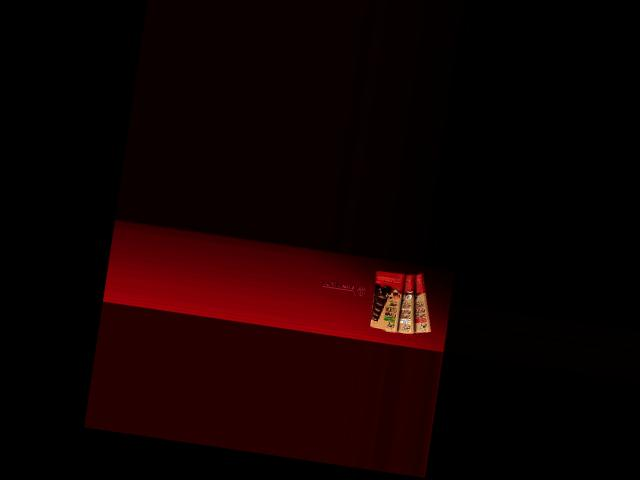chocolate: (399, 268, 439, 338)
